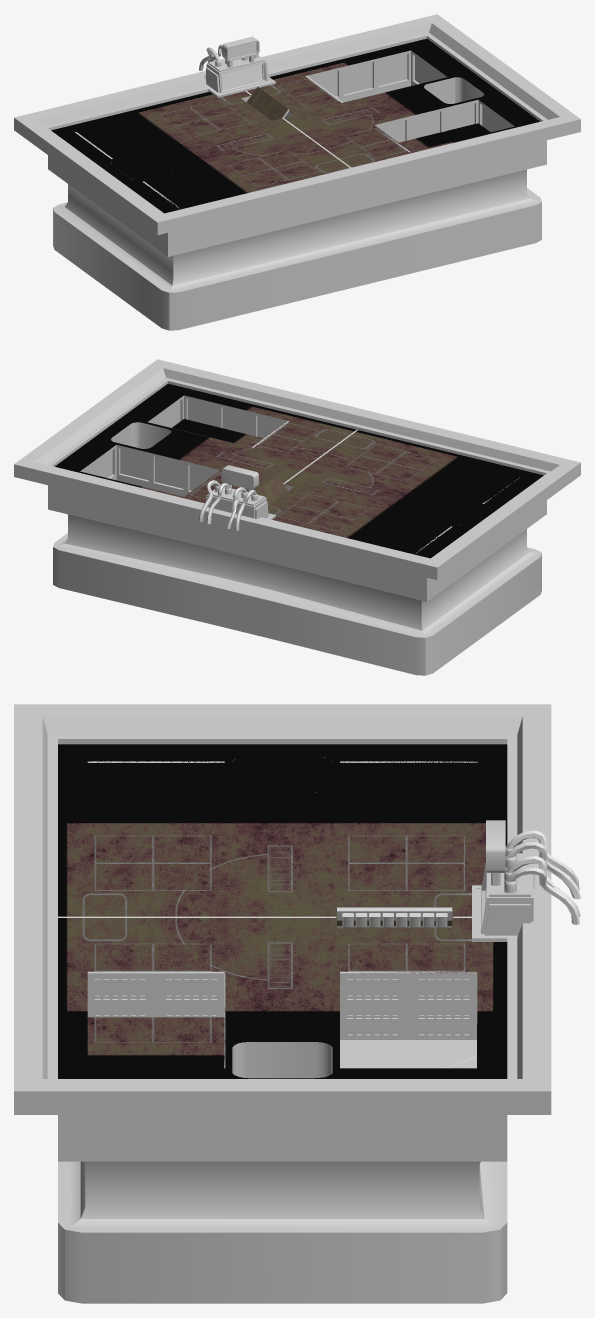
The model's file is Roulette final table model Blender.fbx.
The picture shows the model from 3 angles, top to bottom: view 1: azimuth 30°, elevation 25°; view 2: azimuth 150°, elevation 25°; view 3: azimuth 270°, elevation 25°; orthographic projection. The views are drawn at different scales.
Visible parts, largest first — view 1: Cube.001, Cube.002, Cube.011; view 2: Cube.001, Cube.002, Cube.011; view 3: Cube.001, Cube.002, Cube.011.
Boxes of the visible parts, <box> form: Cube.001: <box>14,14,580,330</box>; Cube.002: <box>51,91,349,213</box>; Cube.011: <box>247,38,539,167</box>; Cube.001: <box>14,359,580,675</box>; Cube.002: <box>266,430,543,558</box>; Cube.011: <box>55,383,356,503</box>; Cube.001: <box>14,704,580,1303</box>; Cube.002: <box>58,744,507,926</box>; Cube.011: <box>58,917,507,1078</box>.
Bounding box in the file's own units: 554 × 199 × 344.
